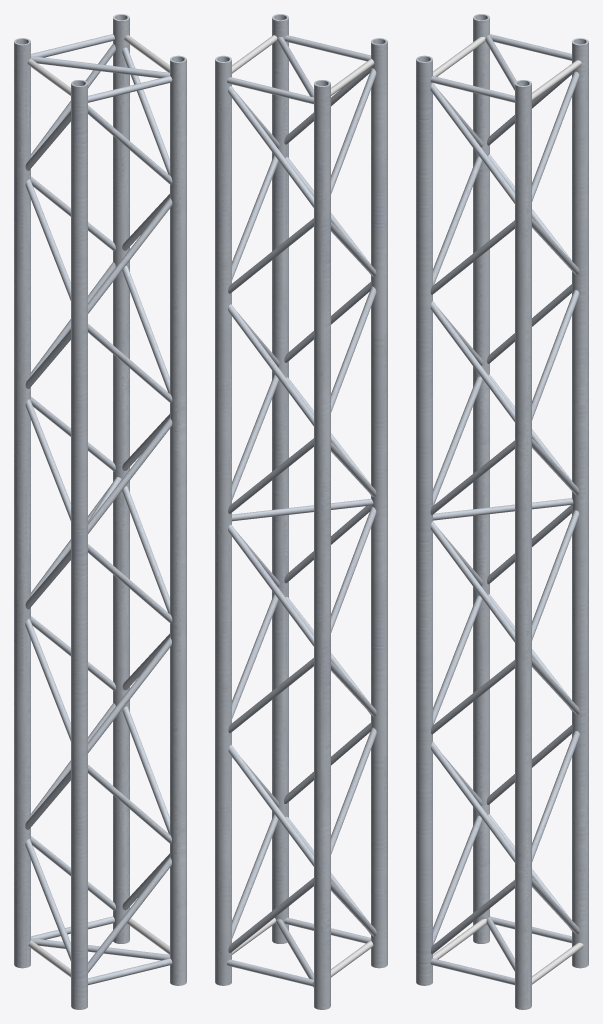
The model's file is Prolyte_H40V_3_00m-ufc1595d.glb.
The picture shows the model from 3 angles, left to right: view 1: azimuth 30°, elevation 25°; view 2: azimuth 150°, elevation 25°; view 3: azimuth 330°, elevation 25°; orthographic projection.
Visible parts, largest first — view 1: Geom3D (×2); view 2: Geom3D (×2); view 3: Geom3D (×2).
Part boxes in pixels (box(x1,y1,x2,y2)): Geom3D (×2): box(14, 14, 186, 1009); Geom3D (×2): box(215, 14, 387, 1009); Geom3D (×2): box(416, 14, 588, 1009).
Size of the model in its own units: 0.3859 by 3 by 0.3858.
2 materials, 1 textured.
